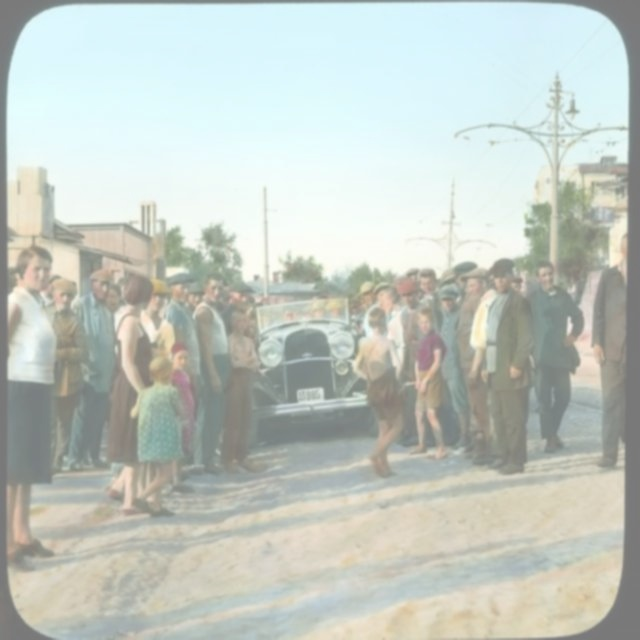pessoa: (0, 242, 66, 576), (101, 274, 167, 507), (477, 255, 541, 476), (525, 259, 586, 455), (349, 300, 409, 480), (126, 351, 189, 519), (38, 276, 91, 474), (66, 268, 117, 472), (459, 265, 507, 465), (162, 272, 206, 476), (591, 231, 628, 468), (191, 270, 232, 477), (451, 261, 490, 457), (392, 278, 437, 440), (221, 306, 260, 476), (435, 283, 473, 454), (409, 307, 449, 464), (40, 276, 75, 452), (395, 276, 429, 436), (168, 341, 198, 498), (258, 296, 361, 330), (137, 278, 177, 362), (216, 278, 255, 340), (363, 281, 395, 345), (415, 268, 442, 342), (375, 286, 404, 338), (357, 280, 382, 338), (182, 280, 206, 320), (103, 281, 127, 313), (237, 292, 254, 313), (217, 286, 230, 308), (510, 274, 524, 292)
